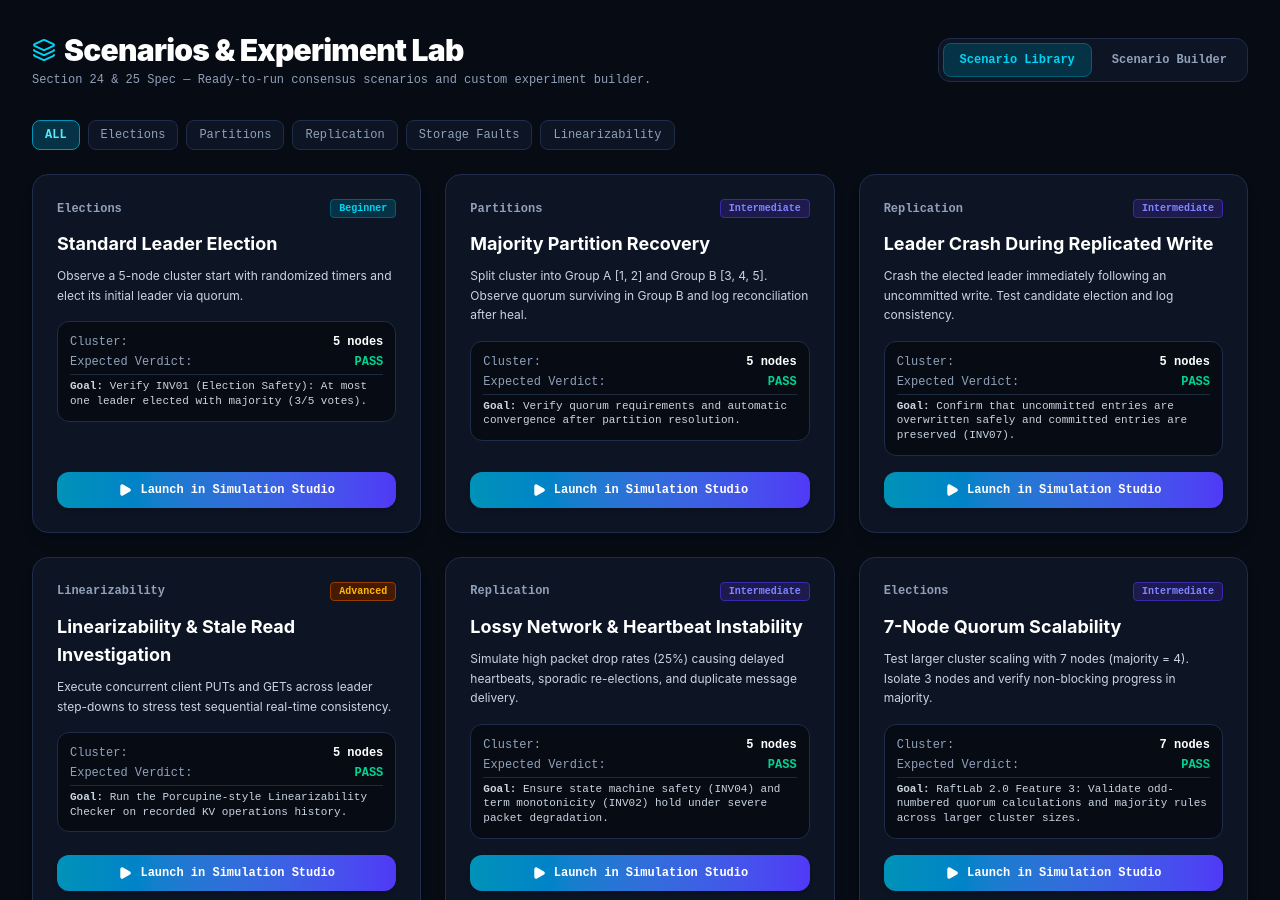
Scenario: ScenariosPage › shows save failures to the user
The width and height of the screenshot is (1280, 900).
Click the button "Scenario Builder": (1169, 60) top-left (1096, 44), bottom-right (1243, 76)
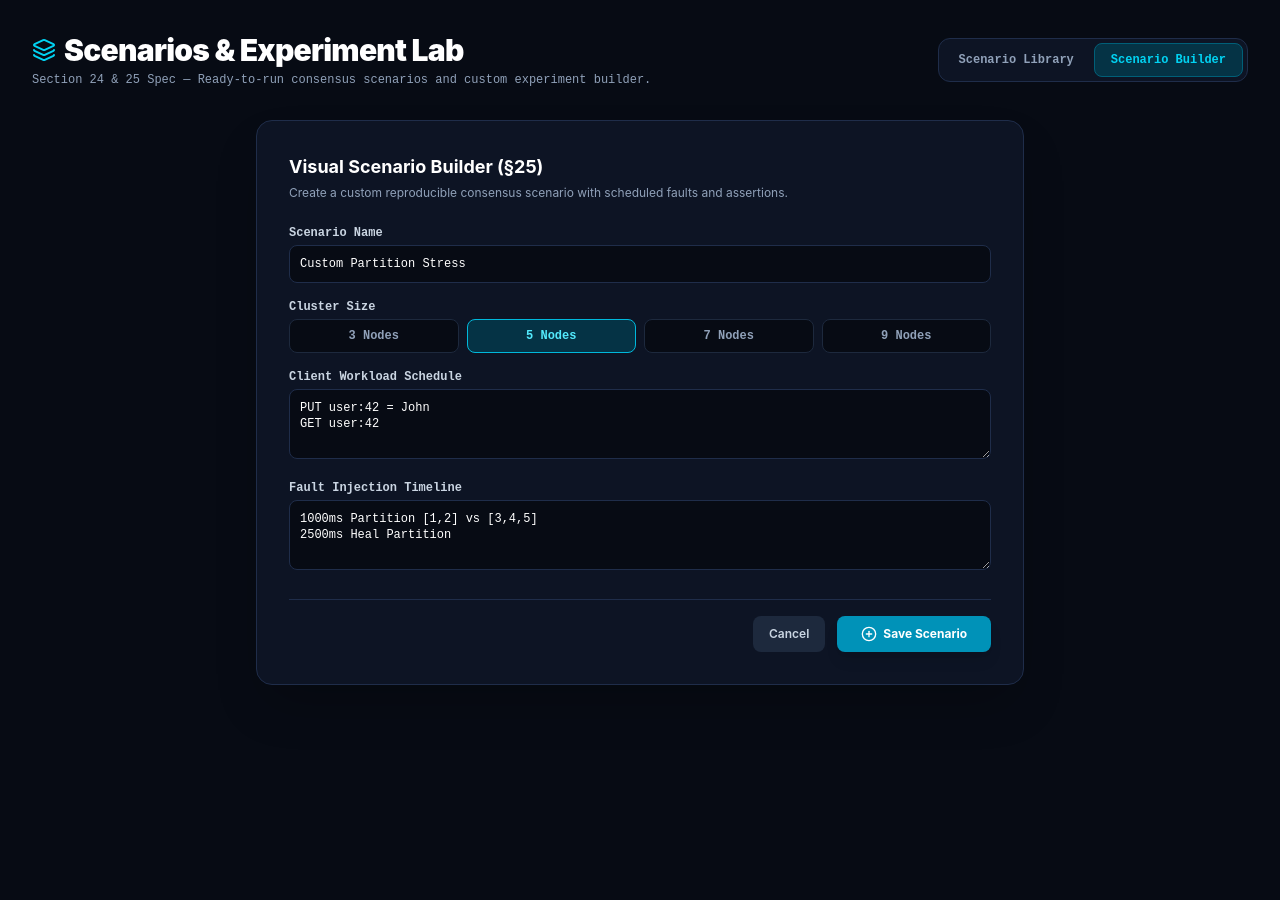
Click the button "Save Scenario": (914, 634) top-left (837, 616), bottom-right (991, 652)
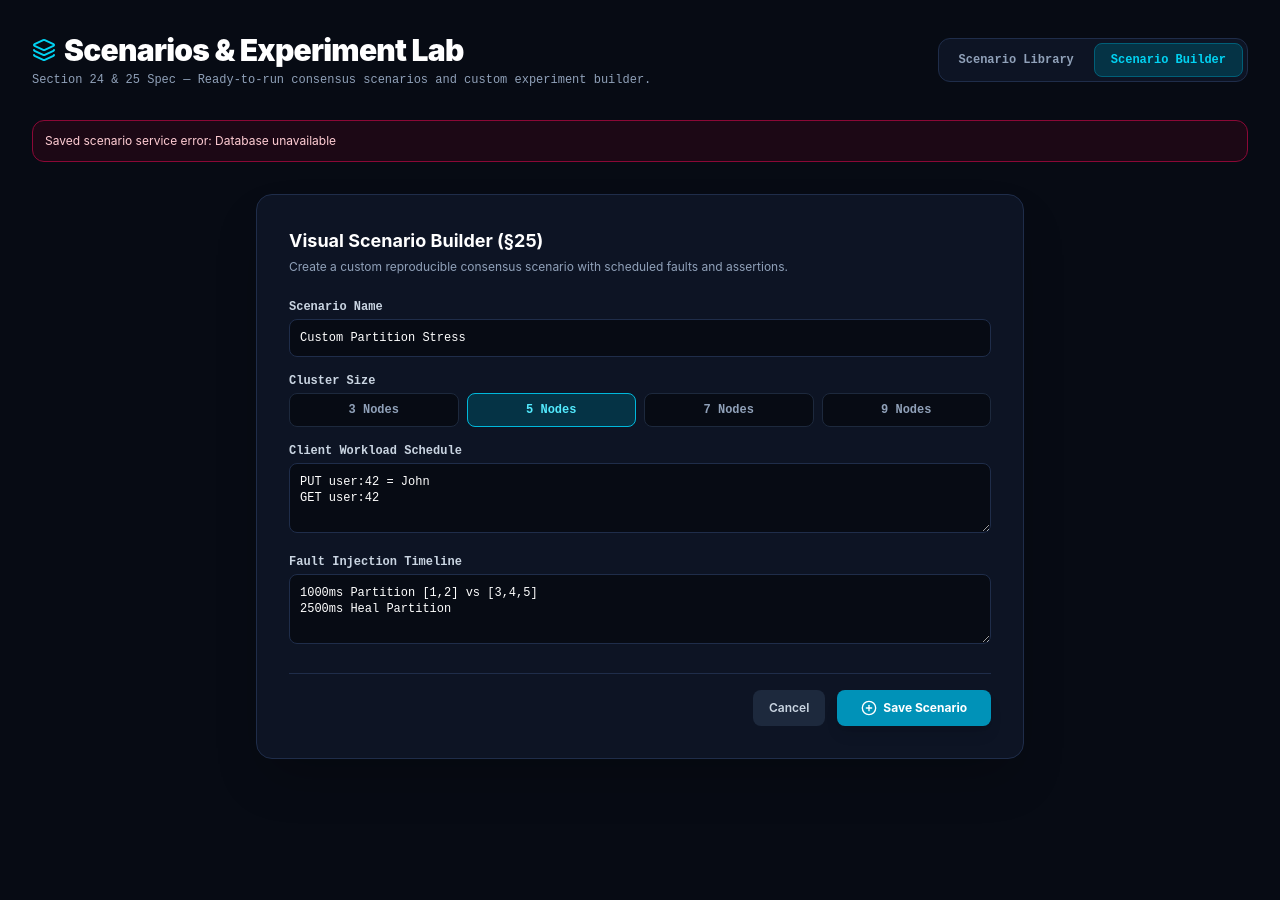
Result: the message shows "Database unavailable" at top-left (215, 133), bottom-right (336, 148)
